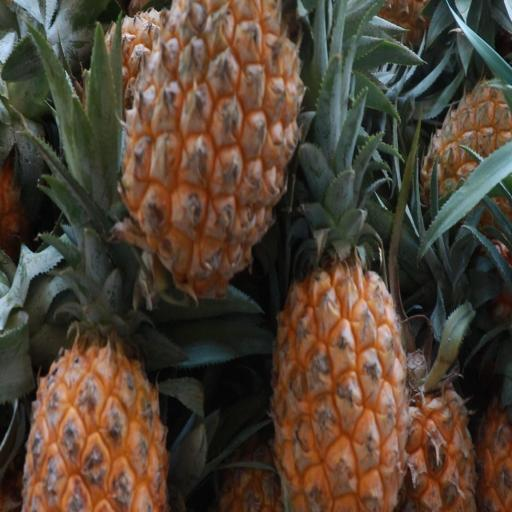Pineapple - v8 v1: (114, 1, 310, 311), (268, 151, 414, 512), (17, 275, 175, 512), (386, 313, 483, 512)
